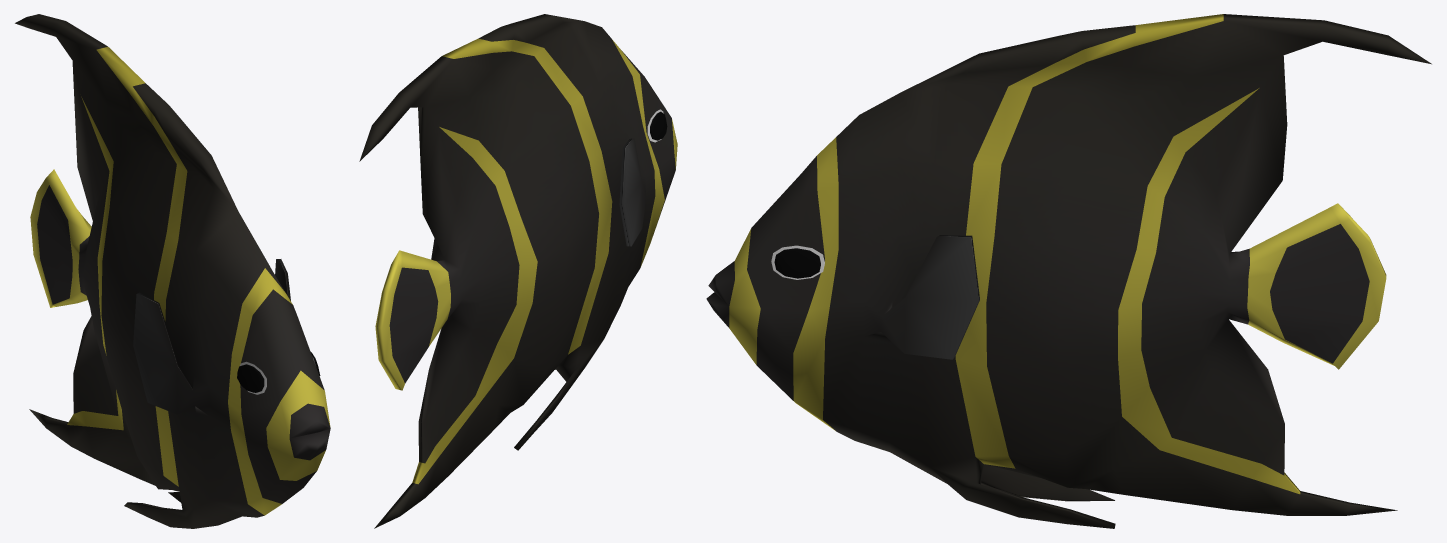
The model's file is underwater-fish-angelfish_v2.fbx.
The picture shows the model from 3 angles, left to right: view 1: azimuth 30°, elevation 25°; view 2: azimuth 150°, elevation 25°; view 3: azimuth 270°, elevation 25°; orthographic projection. The views are drawn at different scales.
Visible parts, largest first — view 1: Angelfish_v2; view 2: Angelfish_v2; view 3: Angelfish_v2.
Boxes of the visible parts, bbox=[...] form: Angelfish_v2: bbox=[15, 14, 330, 528]; Angelfish_v2: bbox=[359, 14, 677, 528]; Angelfish_v2: bbox=[706, 14, 1431, 528].
Size of the model in its own units: 0.0957 by 0.2645 by 0.35.
